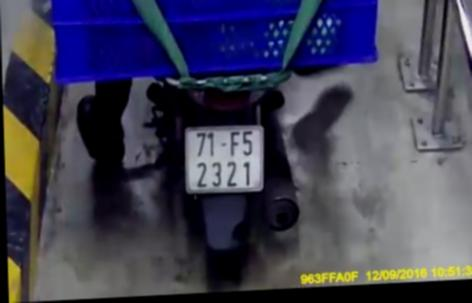License_Plate: (178, 116, 268, 201)
